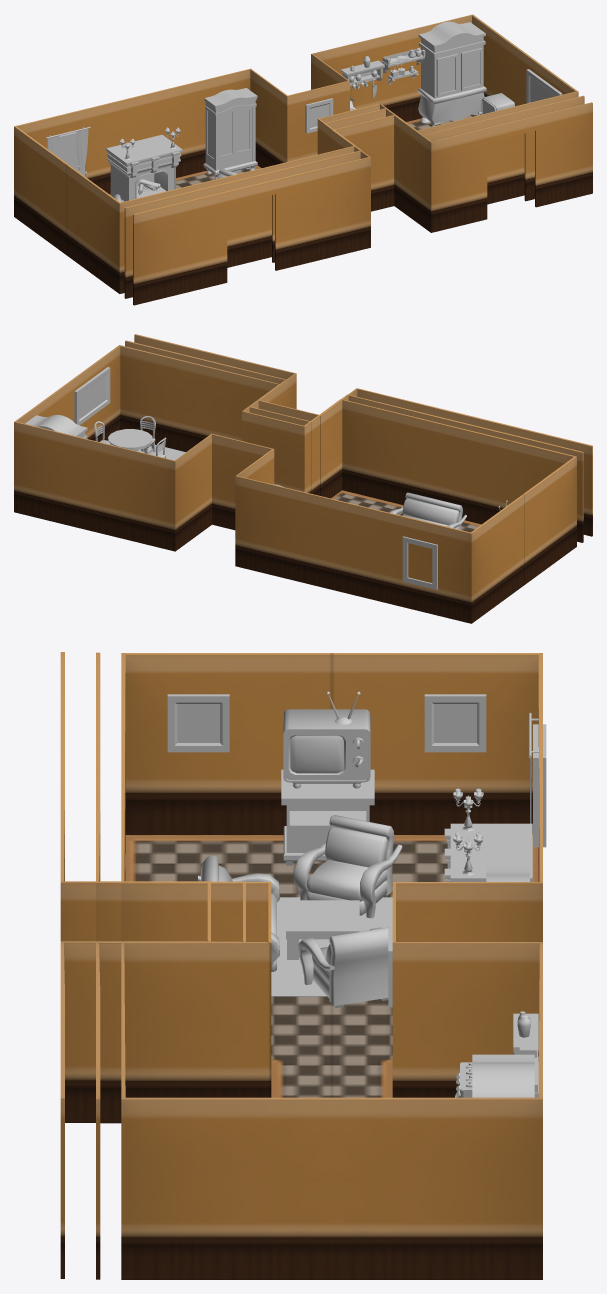
Rendered from Room_03_F.FBX.
3 views of the same model, one above another, from view 1: azimuth 30°, elevation 25°; view 2: azimuth 150°, elevation 25°; view 3: azimuth 270°, elevation 25° (orthographic). The views are drawn at different scales.
Parts seen in each view (by area): view 1: Room3_wall (×4), Wall_Door_03_single, Wall_Door_03_double, Kitchen_Cupborad_005, FirePlace_005, Bookcase_008, Hang_Cupboard001, Glass, Glass001, Curtain_004, Room3_Floor, Picture_008 (+3 smaller); view 2: Room3_wall (×4), Wall_Door_03_single, Wall_Door_03_double, Sofa_005, Kitchen_Table_005, Picture_008, Room3_Floor, Windown010, Kitchen_Cupborad_005; view 3: Room3_wall (×4), Room3_Floor, TV_005, Wall_Door_03_single, Wall_Door_03_double, Sofa_02a001, Sofa_02a004, FirePlace_005, Picture_011, Picture_010, Table_004, Carpet_005 (+4 smaller).
Part boxes in pixels (bbox=[...]): Room3_wall (×4): bbox=[14, 14, 578, 293]; Wall_Door_03_single: bbox=[133, 102, 592, 305]; Wall_Door_03_double: bbox=[124, 95, 584, 298]; Kitchen_Cupborad_005: bbox=[418, 21, 486, 126]; FirePlace_005: bbox=[106, 127, 182, 201]; Bookcase_008: bbox=[203, 88, 257, 179]; Hang_Cupboard001: bbox=[341, 48, 425, 101]; Glass: bbox=[208, 109, 249, 158]; Glass001: bbox=[439, 51, 479, 93]; Curtain_004: bbox=[46, 127, 90, 177]; Room3_Floor: bbox=[110, 114, 475, 194]; Picture_008: bbox=[526, 69, 562, 103]; Room3_wall (×4): bbox=[14, 345, 576, 623]; Wall_Door_03_single: bbox=[134, 334, 592, 536]; Wall_Door_03_double: bbox=[125, 340, 583, 542]; Sofa_005: bbox=[389, 492, 466, 529]; Kitchen_Table_005: bbox=[94, 416, 166, 458]; Picture_008: bbox=[74, 367, 110, 425]; Room3_Floor: bbox=[331, 490, 481, 532]; Windown010: bbox=[402, 536, 437, 589]; Kitchen_Cupborad_005: bbox=[25, 415, 87, 438]; Room3_wall (×4): bbox=[121, 653, 542, 1279]; Room3_Floor: bbox=[125, 835, 538, 1097]; TV_005: bbox=[281, 691, 374, 865]; Wall_Door_03_single: bbox=[60, 652, 210, 1278]; Wall_Door_03_double: bbox=[96, 652, 245, 1279]; Sofa_02a001: bbox=[294, 815, 402, 918]; Sofa_02a004: bbox=[298, 927, 388, 1007]; FirePlace_005: bbox=[444, 788, 532, 881]; Picture_011: bbox=[167, 694, 229, 752]; Picture_010: bbox=[424, 694, 486, 752]; Table_004: bbox=[286, 900, 359, 959]; Carpet_005: bbox=[271, 897, 392, 996].
Bounding box in the file's own units: 487 × 93.27 × 223.
